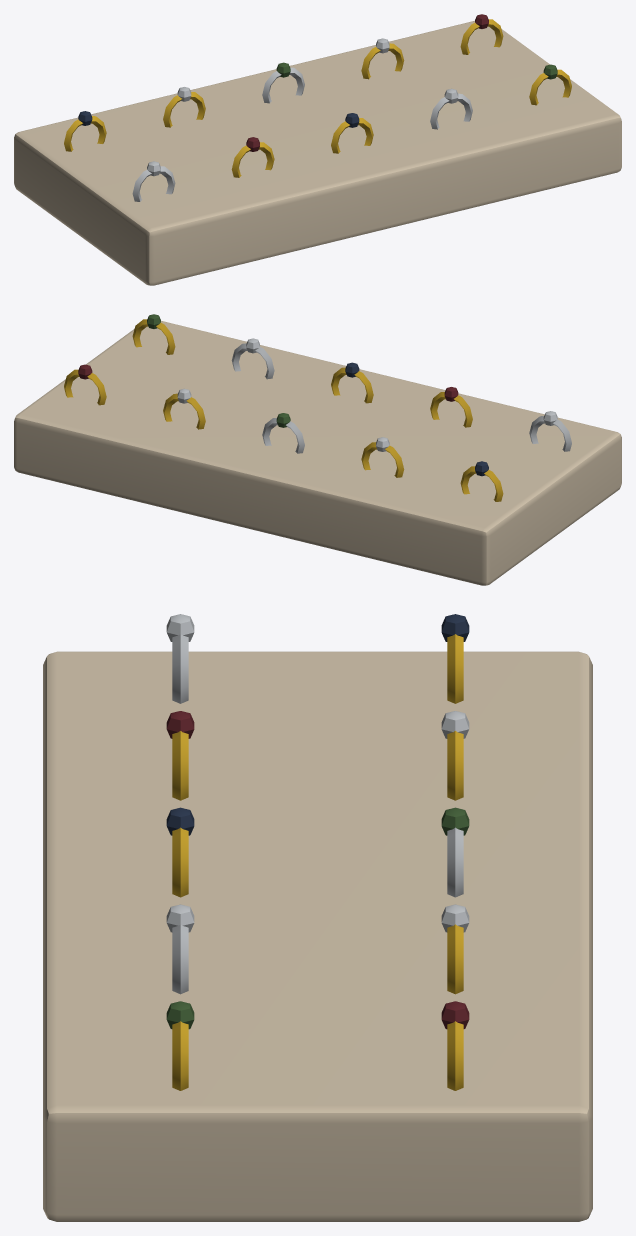
File: prop_ring_tray.glb
3 views of the same model, one above another, from view 1: azimuth 30°, elevation 25°; view 2: azimuth 150°, elevation 25°; view 3: azimuth 270°, elevation 25° (orthographic). The views are drawn at different scales.
Parts seen in each view (by area): view 1: Tray; view 2: Tray; view 3: Tray.
Boxes of the visible parts, box(x1,y1,x2,y2) form: Tray: box(14, 14, 621, 285); Tray: box(14, 314, 621, 585); Tray: box(43, 614, 592, 1221).
Bounding box in the file's own units: 0.24 × 0.045 × 0.12.
